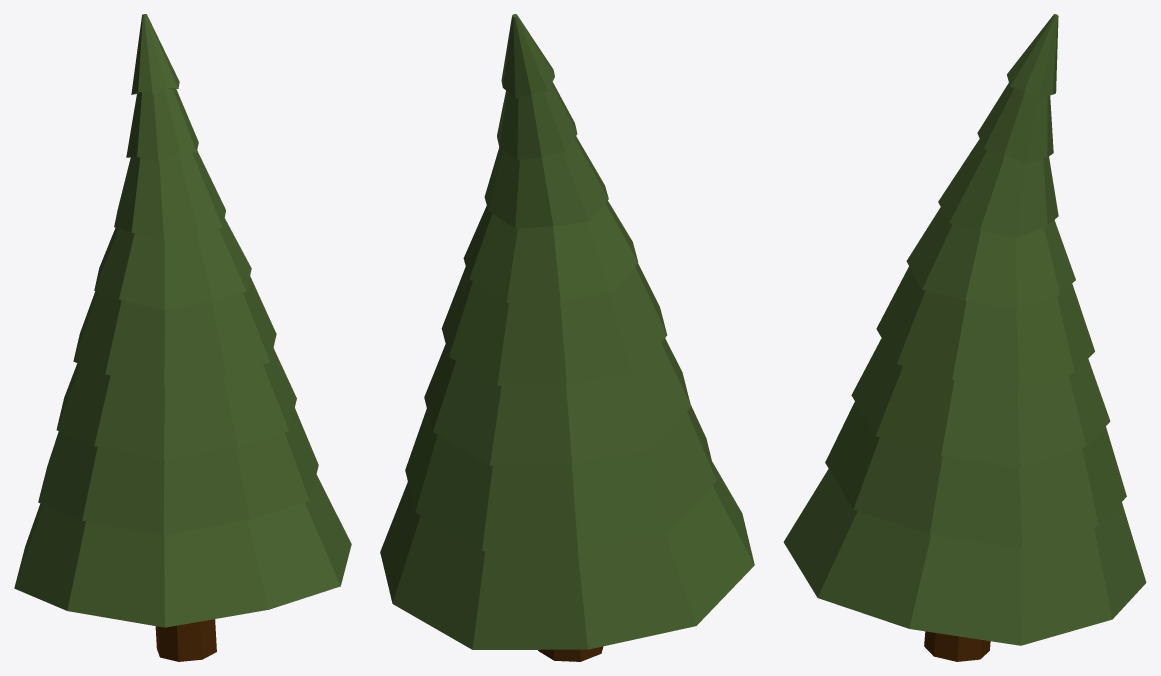
The model's file is tree22.fbx.
3 views of the same model, side by side, from view 1: azimuth 30°, elevation 25°; view 2: azimuth 150°, elevation 25°; view 3: azimuth 270°, elevation 25° (orthographic). The views are drawn at different scales.
Parts seen in each view (by area): view 1: Cylinder, Cylinder.001; view 2: Cylinder, Cylinder.001; view 3: Cylinder, Cylinder.001.
Part boxes in pixels (left/top/right/bottom): Cylinder: left=14, top=14, right=351, bottom=627; Cylinder.001: left=155, top=619, right=216, bottom=661; Cylinder: left=380, top=14, right=754, bottom=649; Cylinder.001: left=538, top=646, right=603, bottom=661; Cylinder: left=783, top=14, right=1146, bottom=645; Cylinder.001: left=924, top=631, right=990, bottom=661.
Size of the model in its own units: 296 by 599 by 308.
